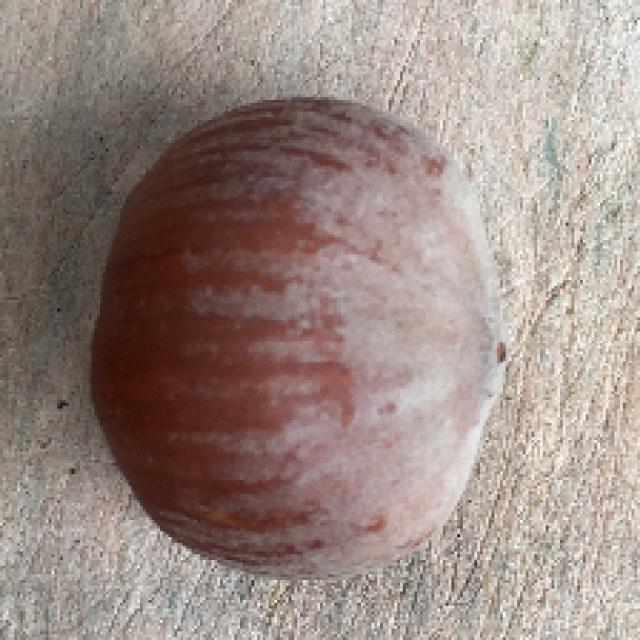qualityHazelnut: (88, 92, 511, 585)
